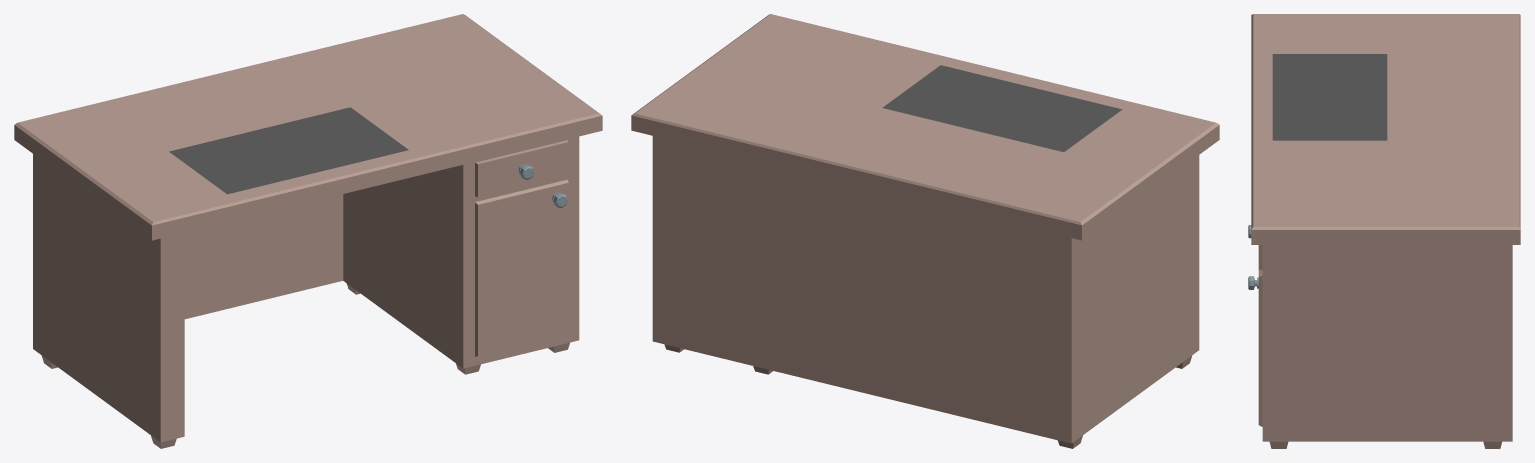
The model's file is desk.dae.
The picture shows the model from 3 angles, left to right: view 1: azimuth 30°, elevation 25°; view 2: azimuth 150°, elevation 25°; view 3: azimuth 270°, elevation 25°; orthographic projection. The views are drawn at different scales.
Parts seen in each view (by area): view 1: Desk_01.001; view 2: Desk_01.001; view 3: Desk_01.001.
Boxes of the visible parts, <box> form: Desk_01.001: <box>14,14,602,448</box>; Desk_01.001: <box>631,14,1219,448</box>; Desk_01.001: <box>1248,14,1520,448</box>.
Size of the model in its own units: 9.94 by 5.31 by 5.01.
